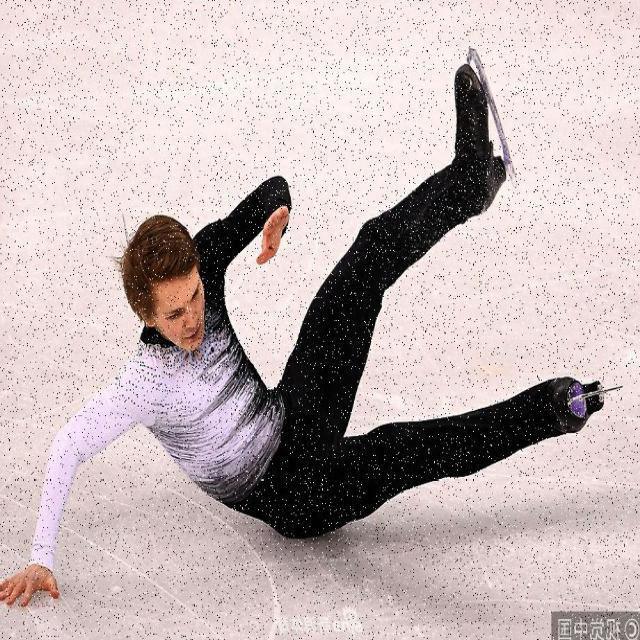fall: (9, 80, 570, 602)
